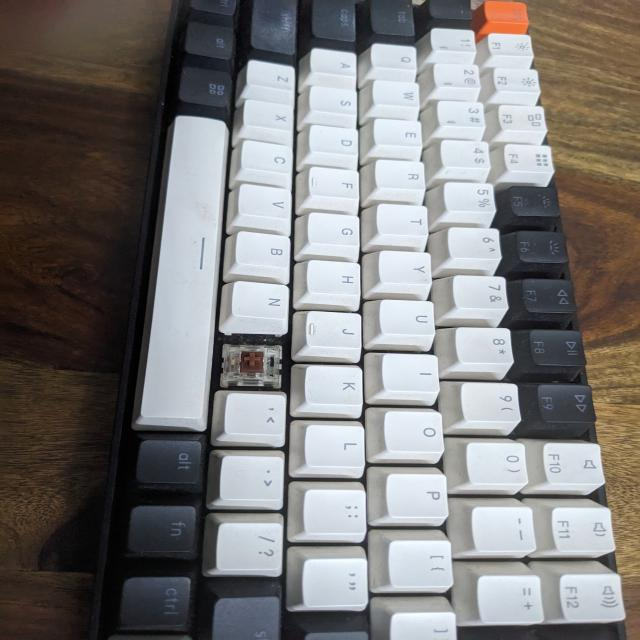C: (223, 332, 282, 386)
